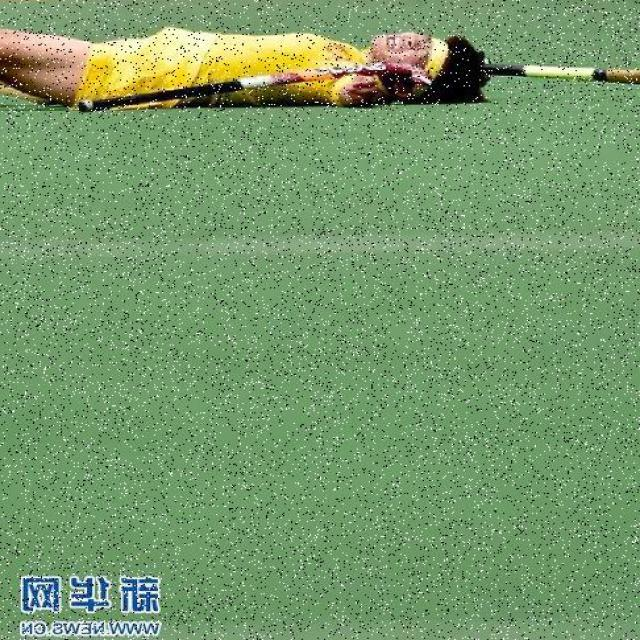fall: (1, 20, 498, 120)
